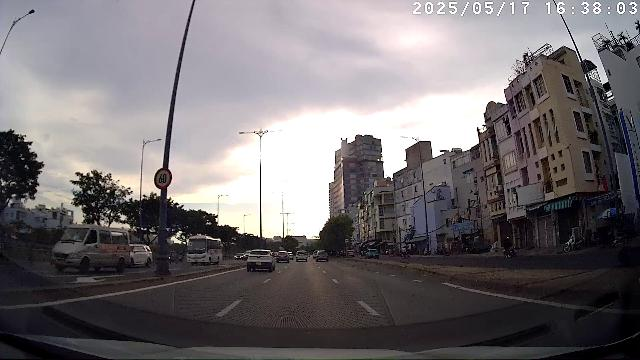127-toc-do-toi-da-60: (154, 168, 172, 189)
